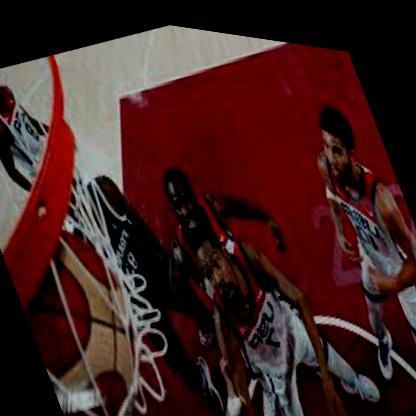basketball: (0, 201, 178, 416)
rim: (0, 45, 144, 327)
